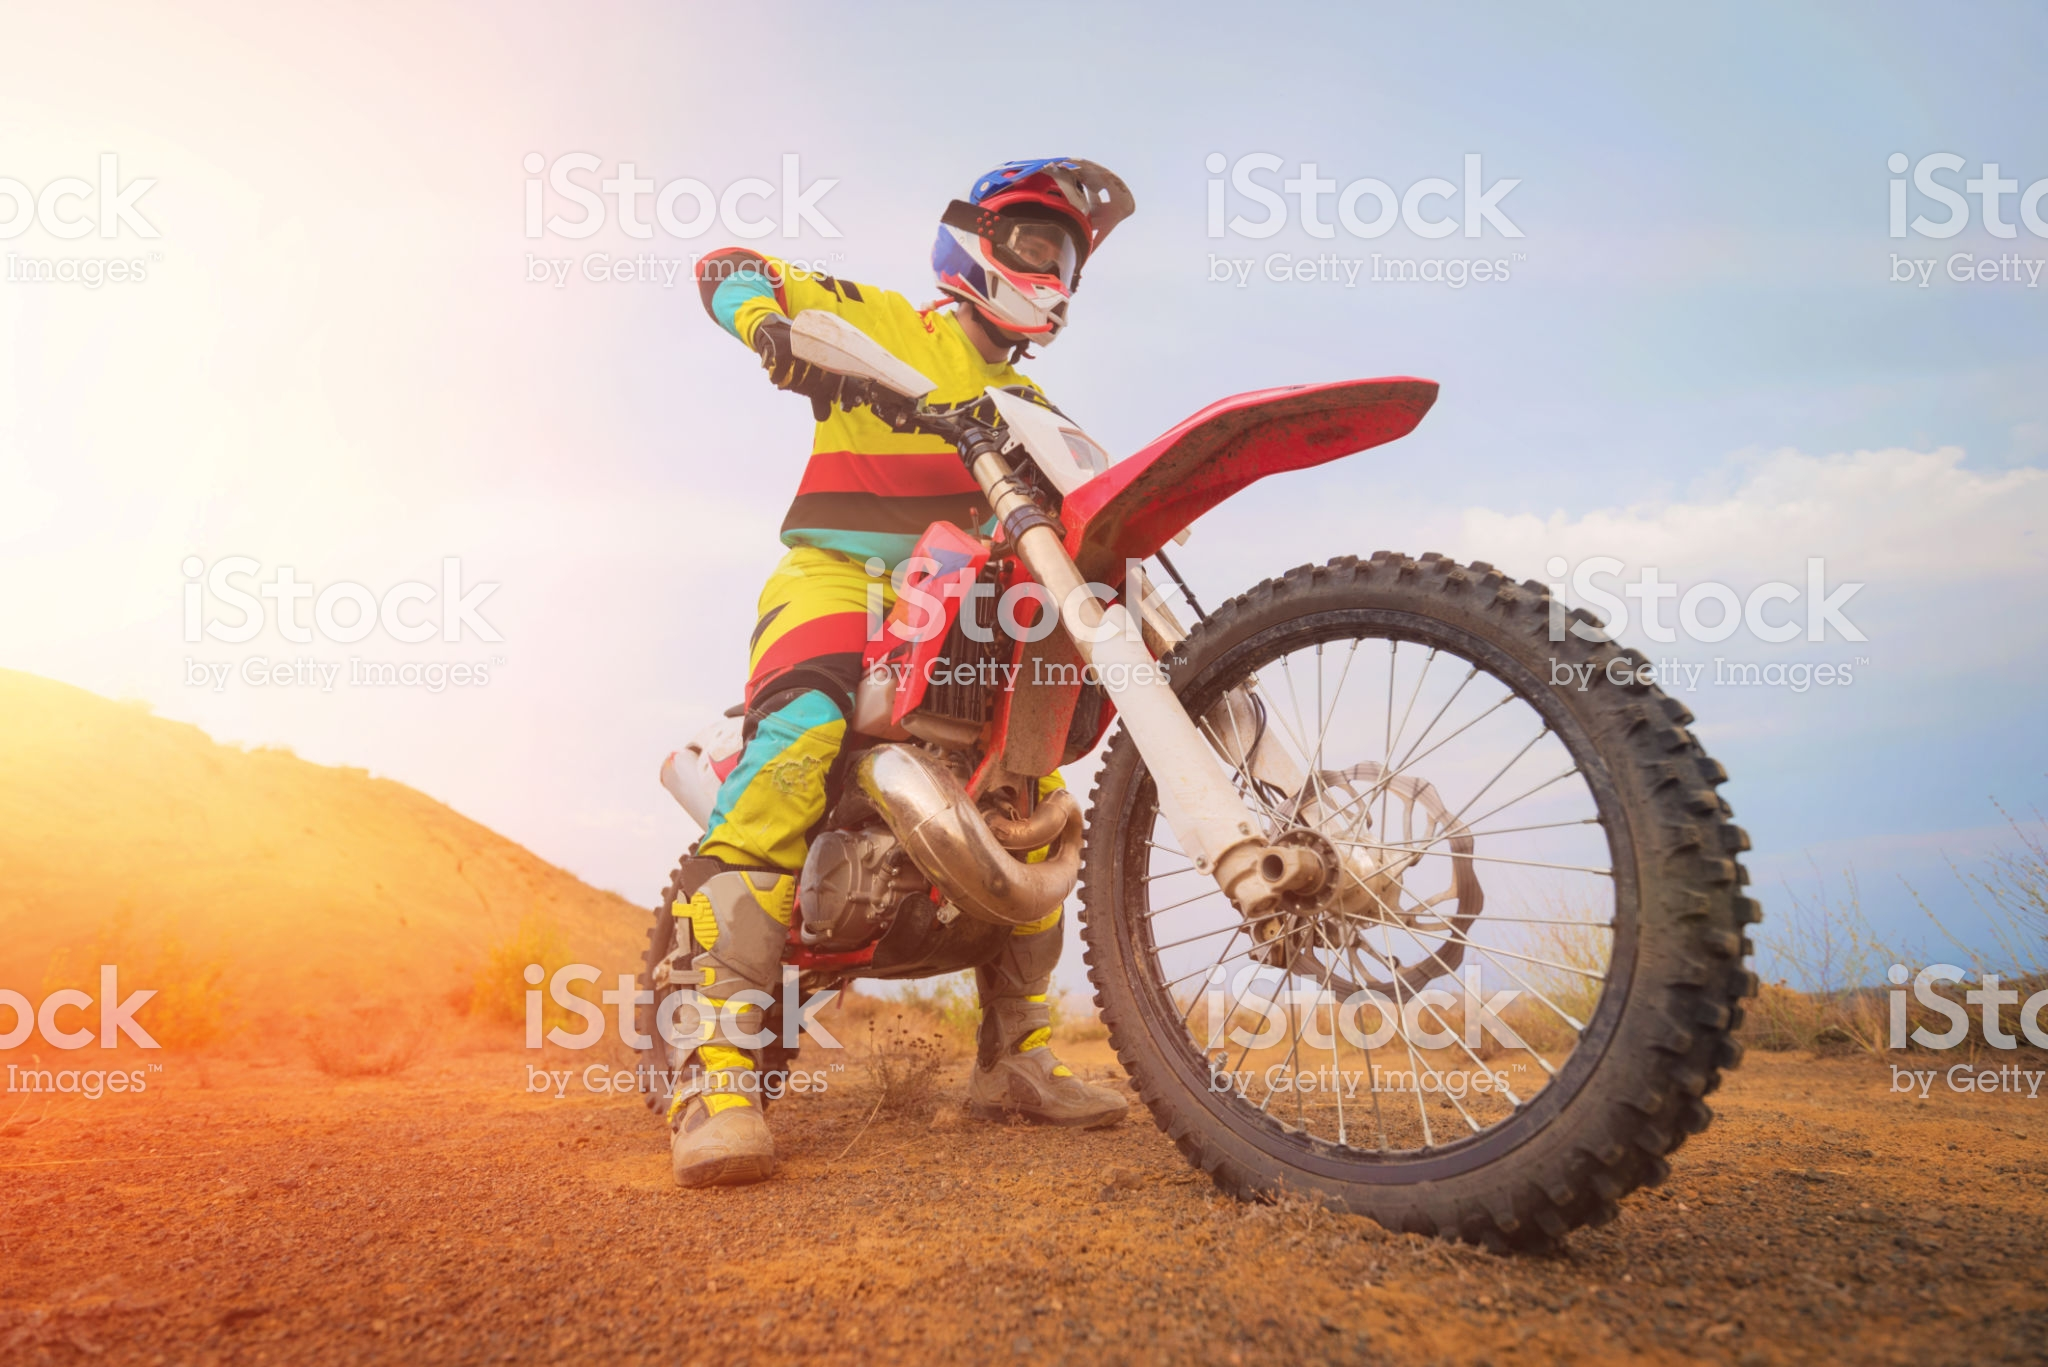helmet: (915, 143, 1112, 352)
